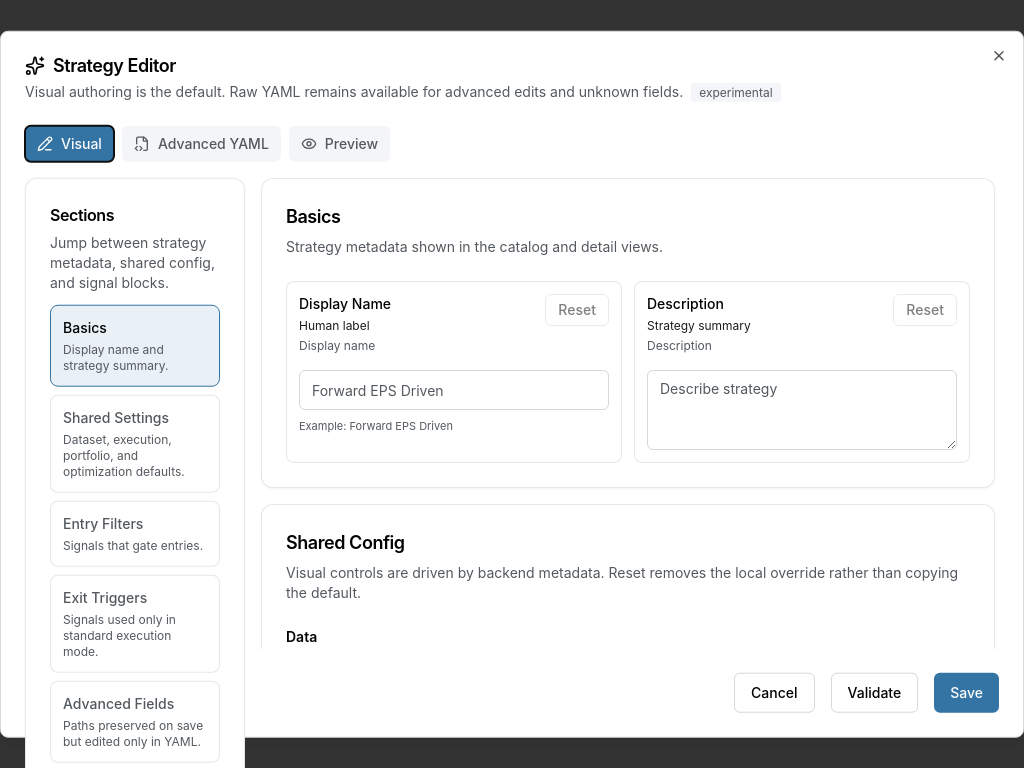
StrategyEditor › switches to preview and renders validation warnings
Click the button "Validate".
click(874, 692)  # box [831,672,918,712]
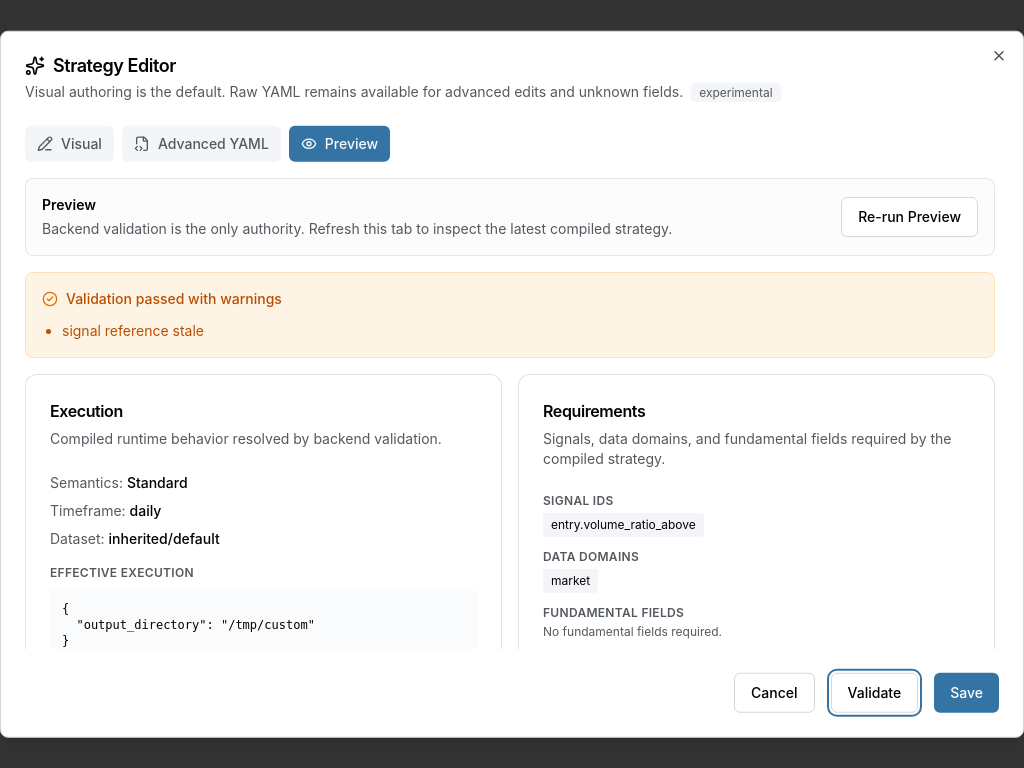
expect the text "Validation passed with warnings" is shown: met, box [66,289,282,309]
expect the list item "signal reference stale" is shown: met, box [62,322,204,339]
